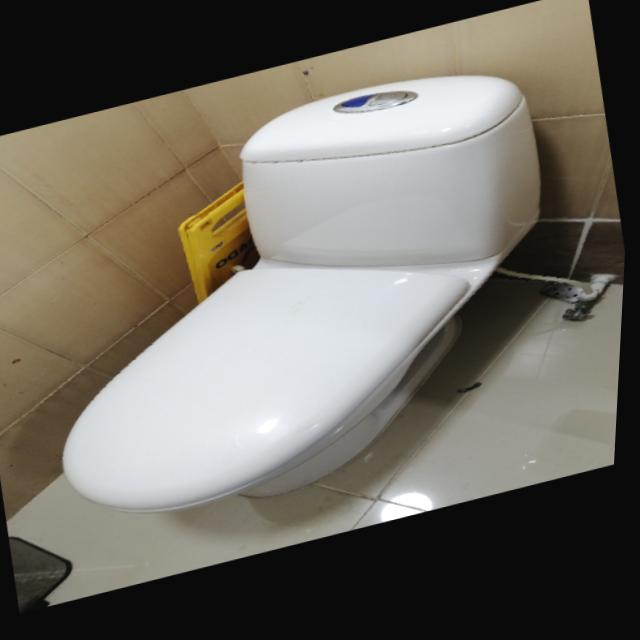toilet: (7, 49, 599, 552)
